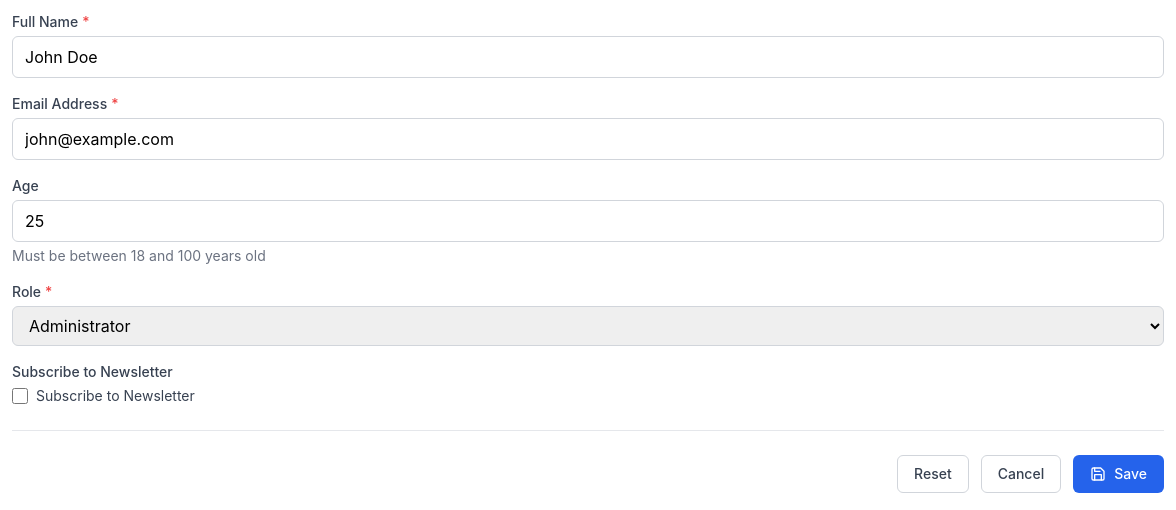
Test case: SimpleForm › handles form submission with loading state
Click the button "Save" at x=1119, y=474, box [1073,455,1164,493]
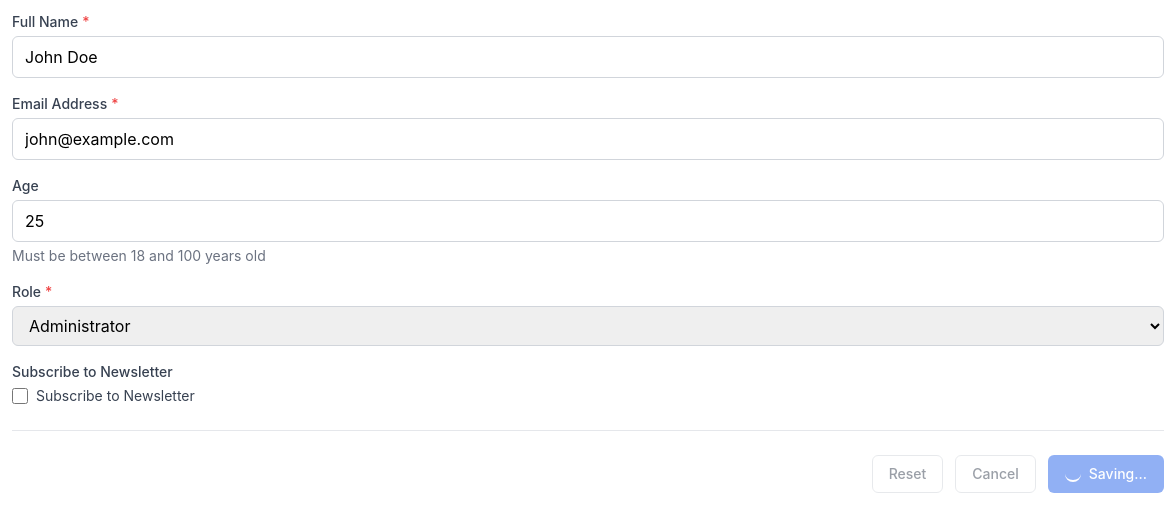
Now the button named "save" is disabled, box [1048,455,1164,493]
